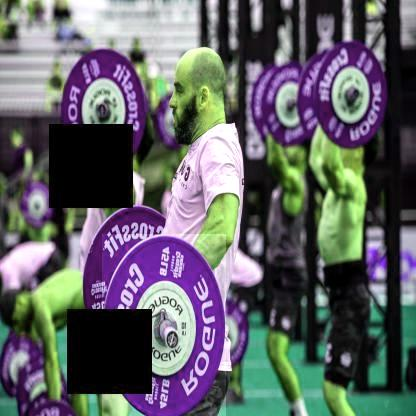barbell: (100, 235, 225, 416), (59, 49, 146, 174)
